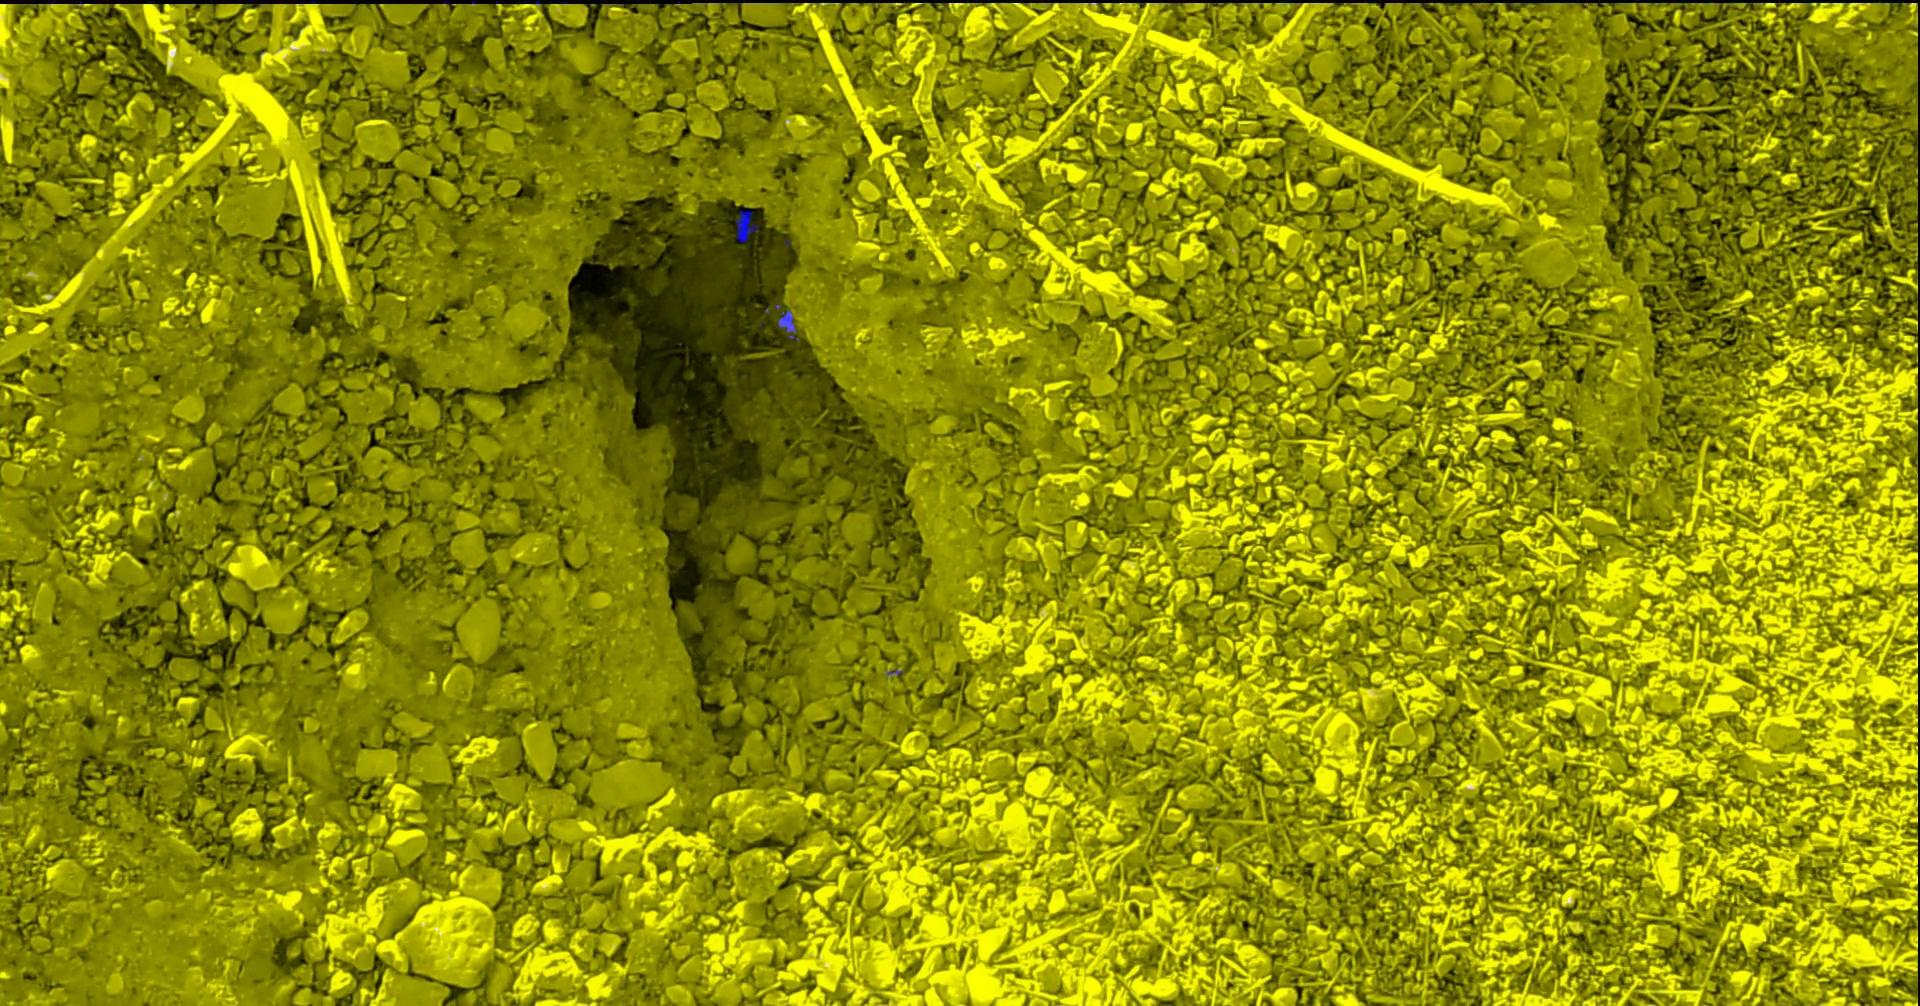ant: (735, 210, 758, 243), (777, 309, 799, 340)
